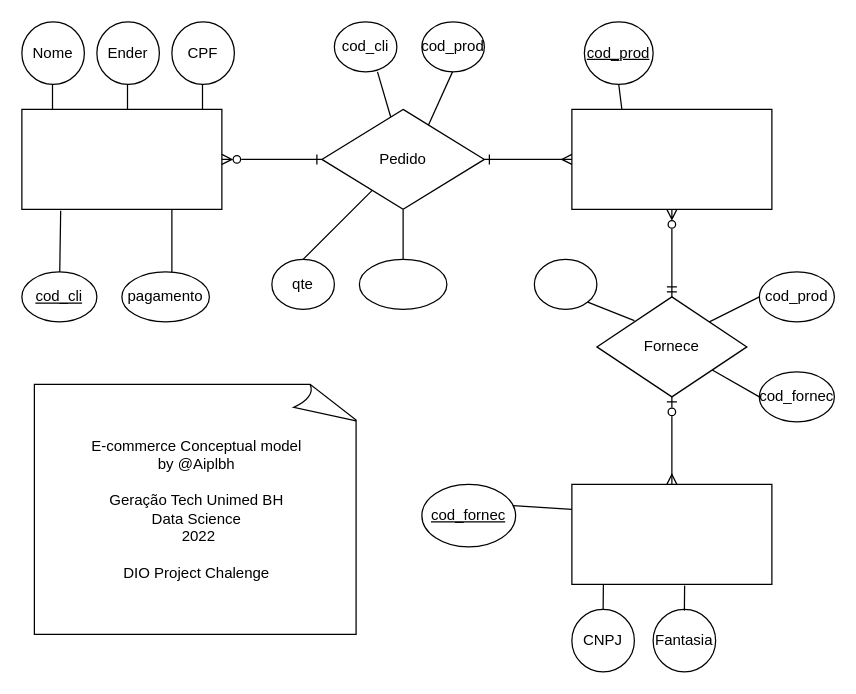
Some shapes in this 856 by 694 pixel diagram are drawn without their labels. The centre of each missing label's shape, as x and y in pixels:
"Cliente" belongs at (x=121, y=158).
"cod_pedido" belongs at (x=402, y=283).
"estoque" belongs at (x=565, y=283).
"Fornecedor" belongs at (x=671, y=533).
"Produto" belongs at (x=671, y=158).
